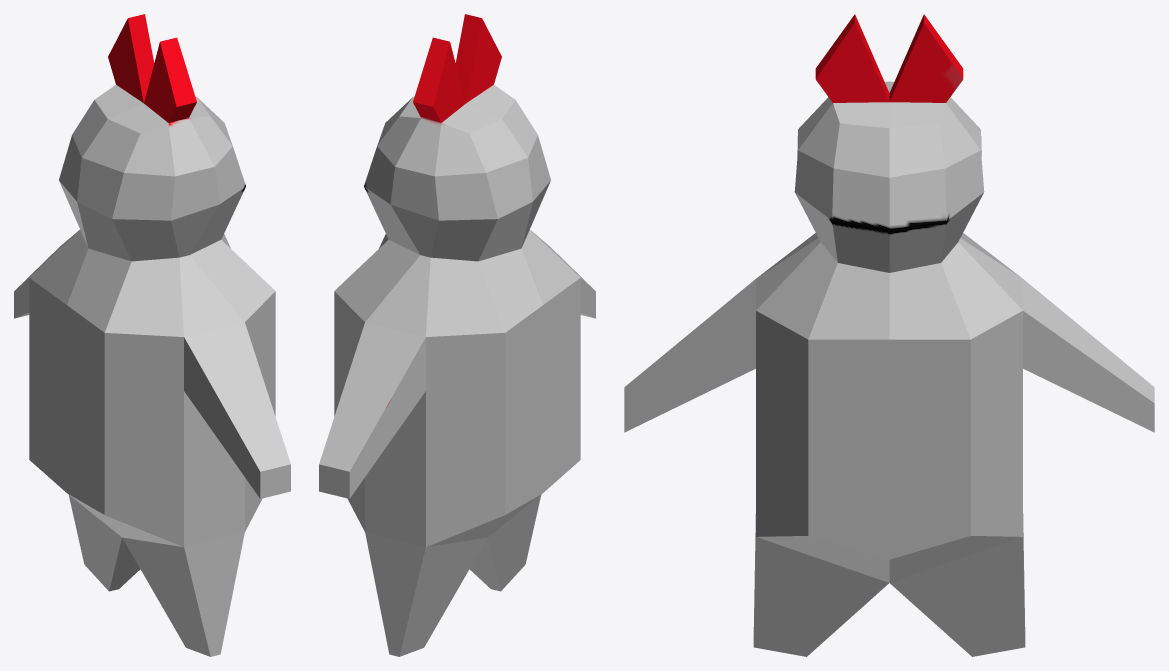
The model's file is quick knight.fbx.
3 views of the same model, side by side, from view 1: azimuth 30°, elevation 25°; view 2: azimuth 150°, elevation 25°; view 3: azimuth 270°, elevation 25° (orthographic). The views are drawn at different scales.
Visible parts, largest first — view 1: Cube; view 2: Cube; view 3: Cube.
Part boxes in pixels (x1,y1,x2,y2): Cube: (14,14,290,656); Cube: (319,14,595,656); Cube: (624,14,1154,656).
Size of the model in its own units: 45.76 by 151 by 114.
Materials: 1 (1 with a texture image).
